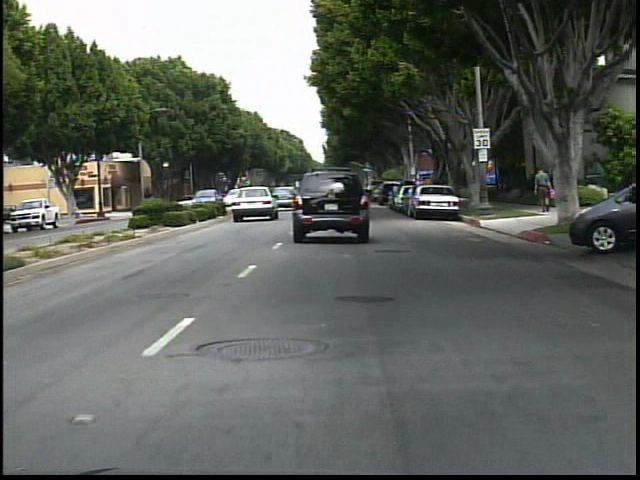person: (532, 164, 555, 216)
